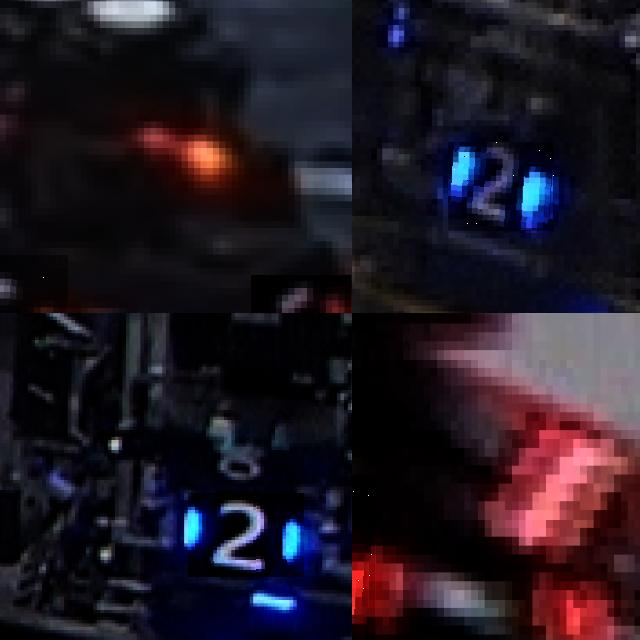B2: (188, 493, 304, 577), (448, 142, 554, 232)
R5: (250, 274, 351, 313)
